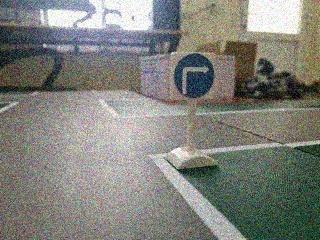right: (166, 48, 218, 99)
